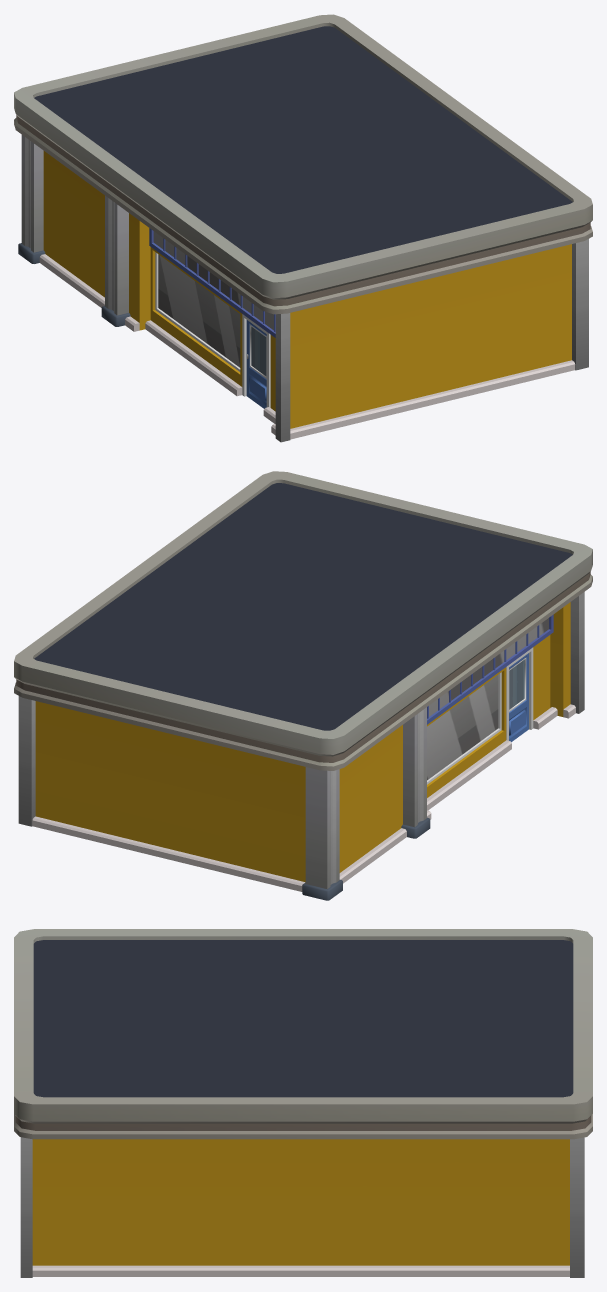
Rendered from Building_11_4_G.fbx.
3 views of the same model, one above another, from view 1: azimuth 30°, elevation 25°; view 2: azimuth 150°, elevation 25°; view 3: azimuth 270°, elevation 25° (orthographic). The views are drawn at different scales.
Visible parts, largest first — view 1: Building_11_4_G; view 2: Building_11_4_G; view 3: Building_11_4_G.
Boxes of the visible parts, box(x1,y1,x2,y2) form: Building_11_4_G: box(14, 14, 592, 442); Building_11_4_G: box(14, 471, 592, 900); Building_11_4_G: box(14, 929, 592, 1277).
Size of the model in its own units: 833 by 393 by 1163.
